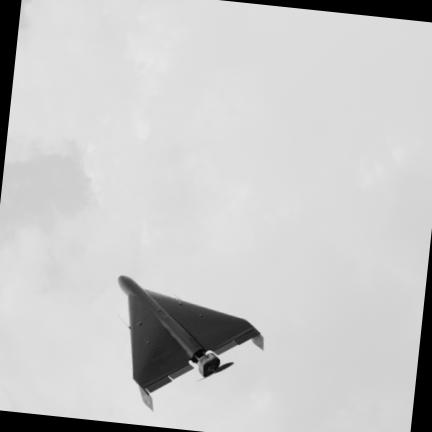Shahed: (119, 276, 262, 410)
